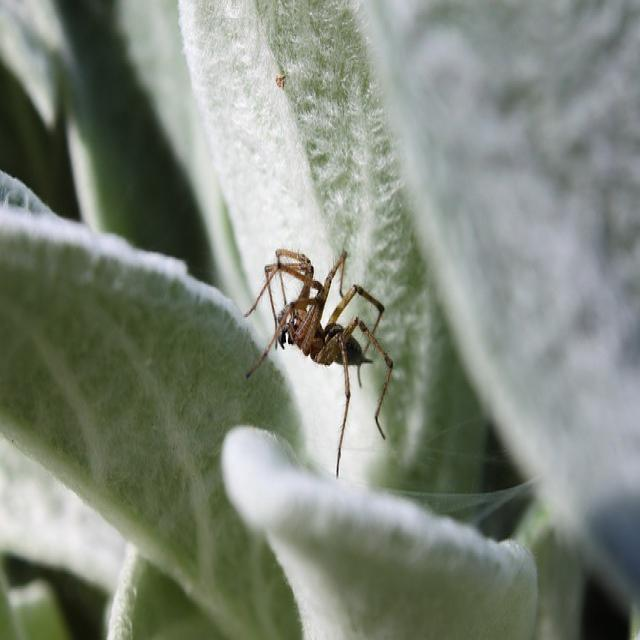spyder: (244, 249, 394, 476)
